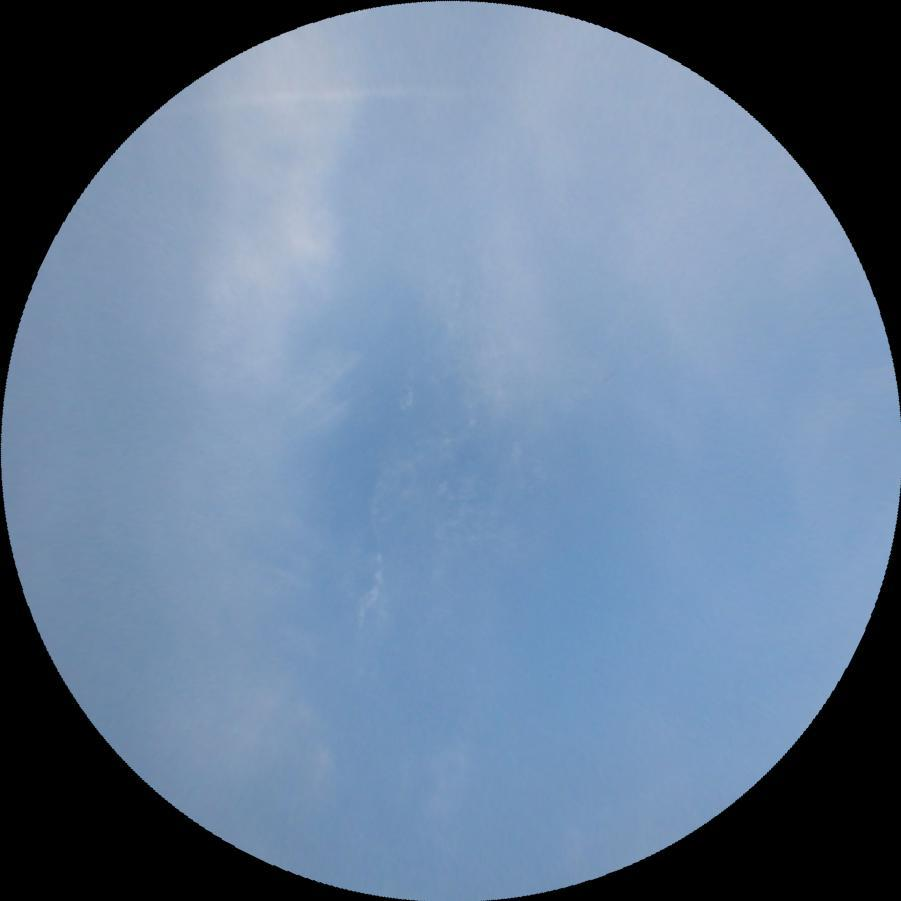contrail veryold: (210, 79, 483, 107)
